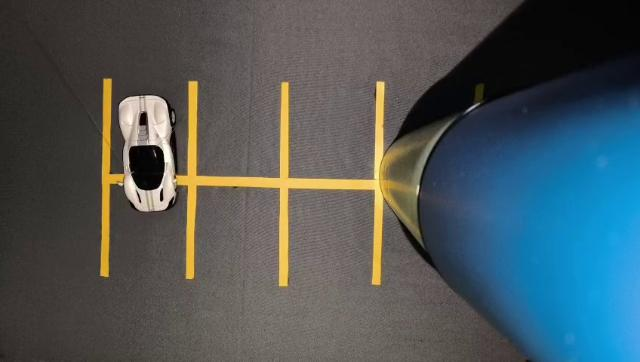toy_car: (103, 82, 203, 235)
